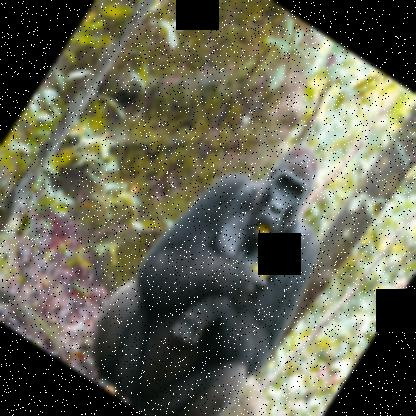Gorilla gorilla: (65, 100, 378, 415)
